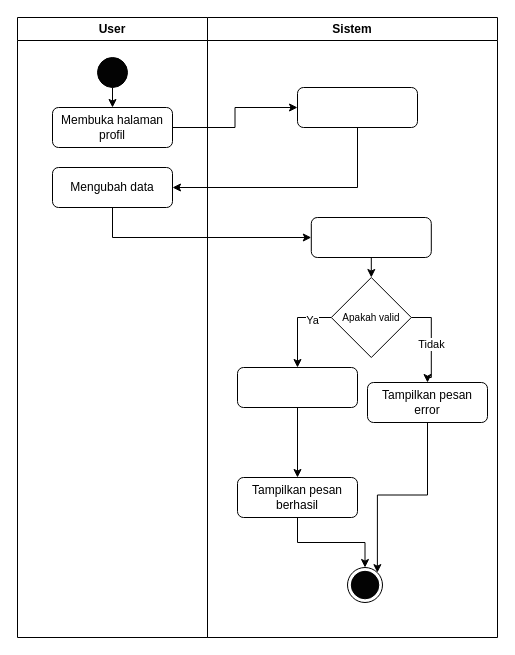
The diagram is 515 pixels wide and 655 high, and some of its shapes have lost their labels. The box of each missing label's shape, as (x1, y1, x2, y2) in pixels:
Menampilkan profil: (296, 86, 418, 128)
Simpan data: (236, 366, 358, 408)
Validasi data: (310, 216, 431, 258)
